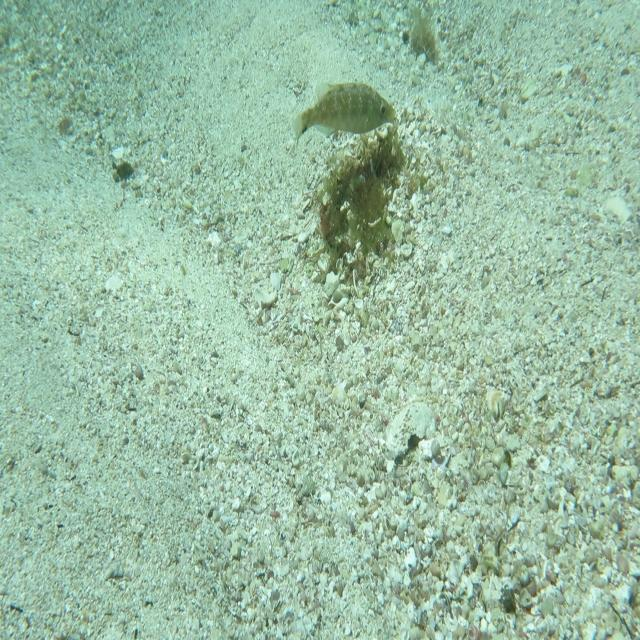AM: (290, 76, 397, 143)
core_nest: (368, 145, 399, 182)
nest: (318, 126, 416, 270)
nest_material: (394, 113, 402, 124)
vegetation: (409, 14, 441, 66), (115, 158, 134, 184)
